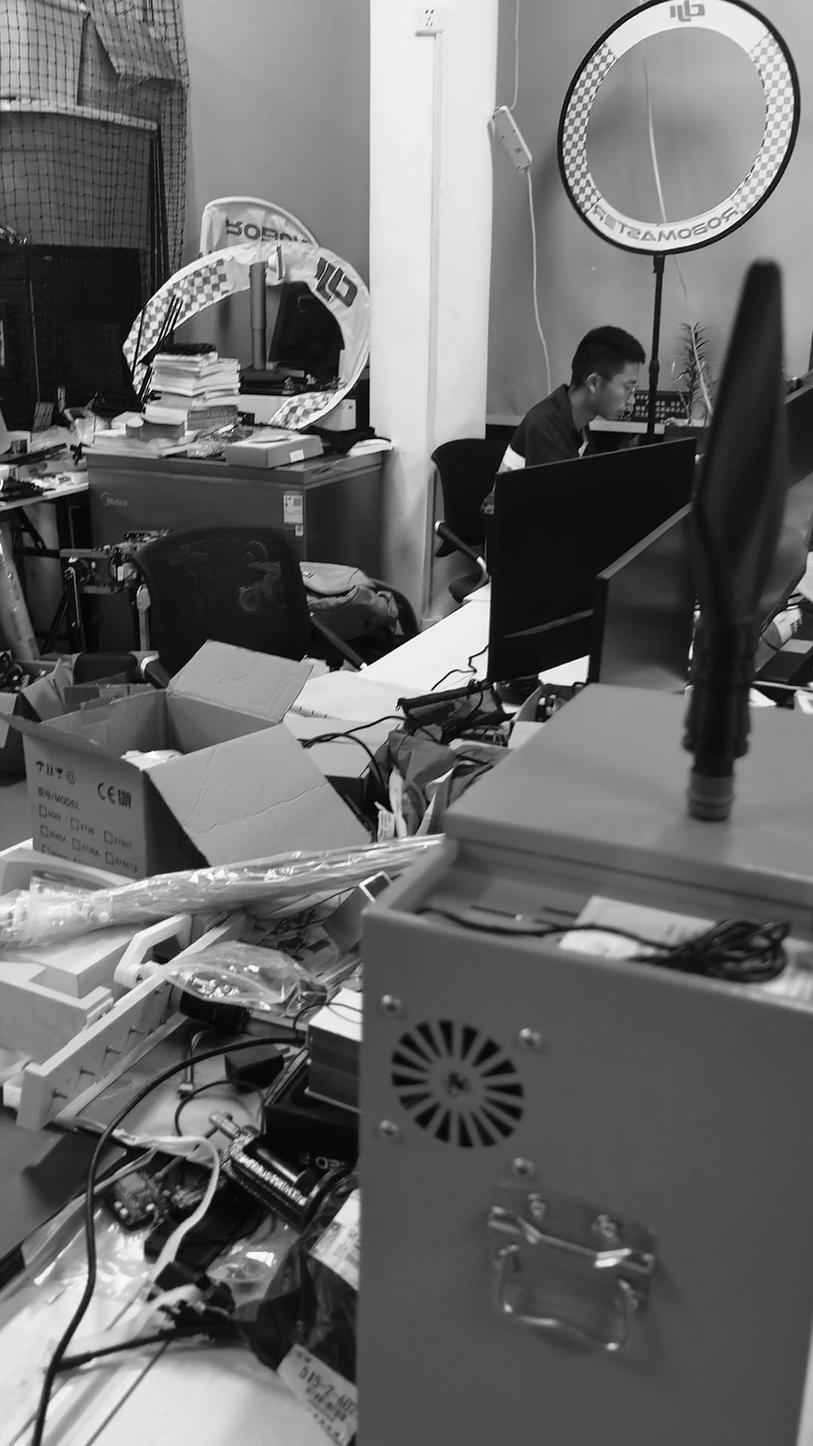base: (684, 768, 736, 824)
